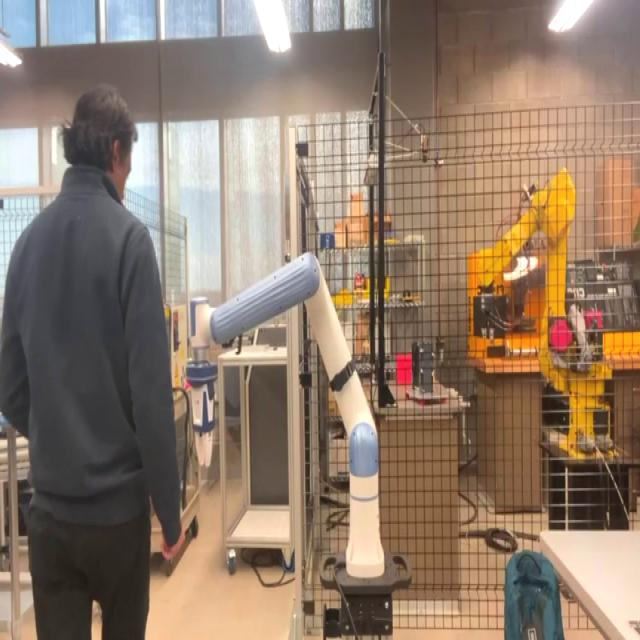robot: (182, 239, 393, 582)
